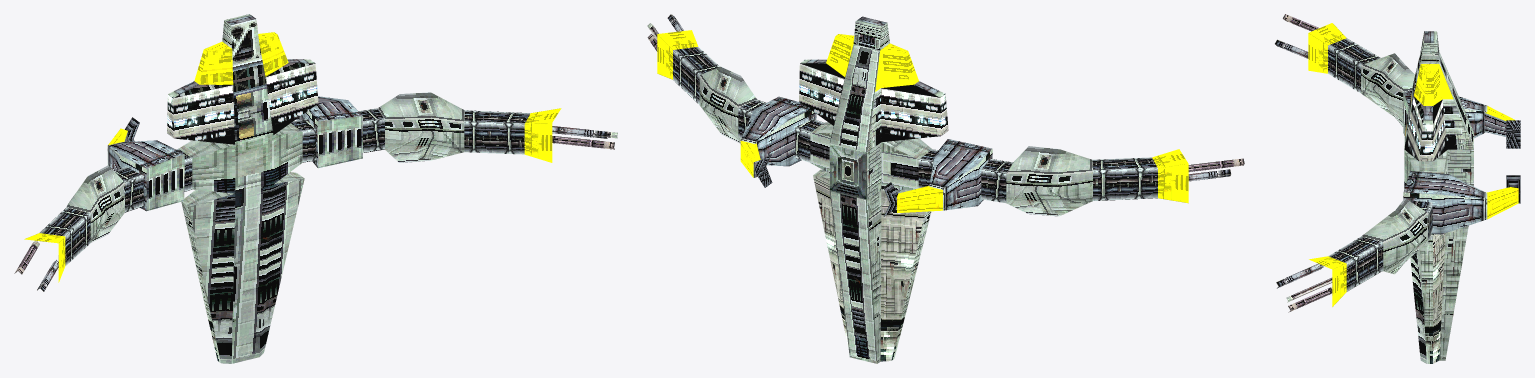
The model's file is sgreaterpavilion_cmp.gltf.
3 views of the same model, side by side, from view 1: azimuth 30°, elevation 25°; view 2: azimuth 150°, elevation 25°; view 3: azimuth 270°, elevation 25° (orthographic). The views are drawn at different scales.
Parts seen in each view (by area): view 1: Root, ArmL04, ArmL01, connect_L2, connect_R2; view 2: Root, ArmL04, ArmL01, ArmL03, connect_R2, ArmL02; view 3: Root, ArmL01, connect_L2, ArmL04, ArmL02, ArmL03, connect_R2, ClawL01, ClawL.
Boxes of the visible parts, bbox=[...] form: Root: bbox=[24, 14, 561, 363]; ArmL04: bbox=[107, 140, 184, 211]; ArmL01: bbox=[299, 96, 362, 168]; connect_L2: bbox=[552, 126, 617, 149]; connect_R2: bbox=[14, 240, 58, 291]; Root: bbox=[657, 16, 1188, 363]; ArmL04: bbox=[929, 139, 992, 210]; ArmL01: bbox=[740, 96, 816, 166]; ArmL03: bbox=[897, 186, 942, 212]; connect_R2: bbox=[1188, 158, 1244, 181]; ArmL02: bbox=[740, 141, 760, 177]; Root: bbox=[1308, 23, 1473, 363]; ArmL01: bbox=[1403, 171, 1487, 234]; connect_L2: bbox=[1276, 263, 1332, 312]; ArmL04: bbox=[1403, 92, 1487, 138]; ArmL02: bbox=[1486, 187, 1518, 219]; ArmL03: bbox=[1484, 106, 1515, 136]; connect_R2: bbox=[1275, 14, 1319, 58]; ClawL01: bbox=[1506, 120, 1520, 148]; ClawL: bbox=[1506, 175, 1520, 203].
Size of the model in its own units: 41.58 by 22.14 by 15.66.
Materials: 15 (15 with a texture image).
